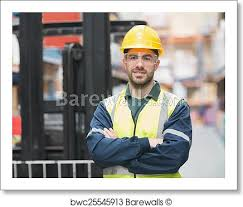Person_wearing_helmet: (114, 21, 164, 68)
